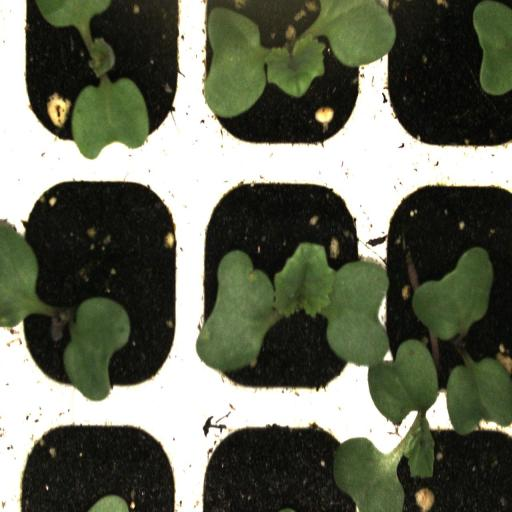Folha: (196, 241, 512, 512), (412, 247, 493, 341), (63, 297, 131, 401), (0, 224, 50, 328), (473, 0, 512, 96)
Germinacao: (186, 173, 370, 413), (4, 173, 186, 409), (371, 174, 512, 426), (0, 0, 186, 170), (187, 0, 373, 170)
